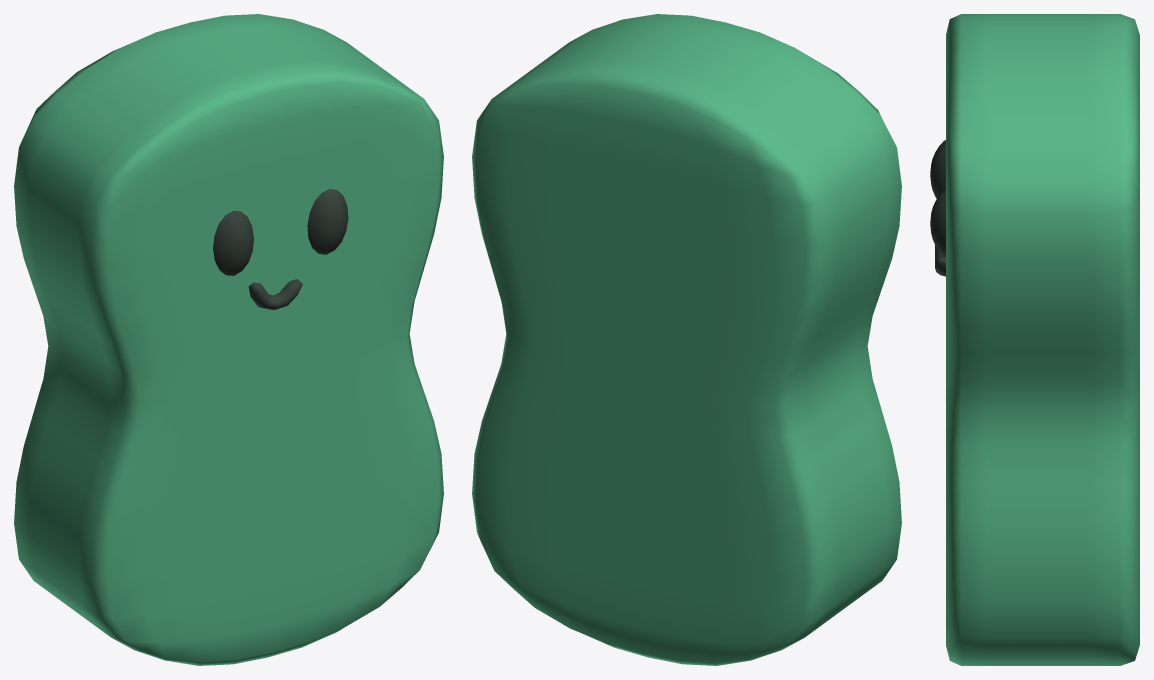
The model's file is Sponge_Po.fbx.
3 views of the same model, side by side, from view 1: azimuth 30°, elevation 25°; view 2: azimuth 150°, elevation 25°; view 3: azimuth 270°, elevation 25° (orthographic). The views are drawn at different scales.
Visible parts, largest first — view 1: Sponge_body_geo, Eyes_geo, Smile_geo; view 2: Sponge_body_geo; view 3: Sponge_body_geo, Eyes_geo.
Part boxes in pixels (x1,y1,x2,y2): Sponge_body_geo: (14, 14, 443, 665); Eyes_geo: (213, 189, 348, 275); Smile_geo: (248, 279, 302, 310); Sponge_body_geo: (472, 14, 901, 665); Sponge_body_geo: (946, 14, 1139, 665); Eyes_geo: (930, 140, 945, 257).
Size of the model in its own units: 4.68 by 7.33 by 2.35.
